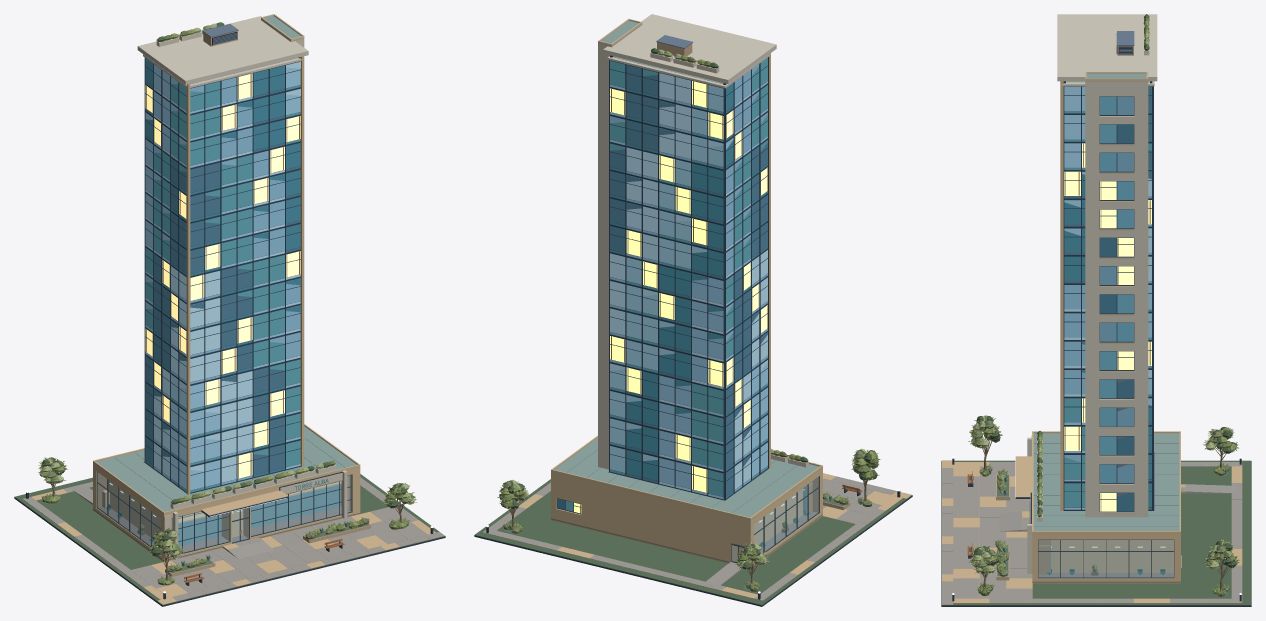
Rendered from torre_corporativa.fbx.
The picture shows the model from 3 angles, left to right: view 1: azimuth 30°, elevation 25°; view 2: azimuth 150°, elevation 25°; view 3: azimuth 270°, elevation 25°; orthographic projection. The views are drawn at different scales.
Parts seen in each view (by area): view 1: Acristalamiento opaco, Marcos y lamas, Muros, Marquesinas, Senderos y explanadas, Cristales transparentes, Remates minerales, Islas de plantacion, Equipamiento de fachada, Piedra y bordillos, Setos y herbaceas, Arbol 246 (+3 smaller); view 2: Acristalamiento opaco, Muros, Marcos y lamas, Marquesinas, Islas de plantacion, Senderos y explanadas, Remates minerales, Cristales transparentes, Equipamiento de fachada, Piedra y bordillos, Arbol 246, Arbol 245 (+2 smaller); view 3: Muros, Acristalamiento opaco, Marquesinas, Senderos y explanadas, Islas de plantacion, Marcos y lamas, Cristales transparentes, Remates minerales, Equipamiento de fachada, Piedra y bordillos, Setos y herbaceas, Arbol 246 (+3 smaller).
Part boxes in pixels (left/top/right/bottom): Acristalamiento opaco: left=145, top=58, right=300, bottom=492; Marcos y lamas: left=96, top=32, right=352, bottom=554; Muros: left=93, top=20, right=360, bottom=559; Marquesinas: left=93, top=14, right=360, bottom=517; Senderos y explanadas: left=23, top=477, right=444, bottom=604; Cristales transparentes: left=97, top=472, right=351, bottom=552; Remates minerales: left=93, top=29, right=360, bottom=561; Islas de plantacion: left=14, top=474, right=445, bottom=605; Equipamiento de fachada: left=106, top=22, right=341, bottom=541; Piedra y bordillos: left=14, top=497, right=445, bottom=606; Setos y herbaceas: left=41, top=491, right=409, bottom=585; Arbol 246: left=148, top=528, right=183, bottom=580; Acristalamiento opaco: left=557, top=57, right=767, bottom=513; Muros: left=551, top=25, right=822, bottom=564; Marcos y lamas: left=557, top=55, right=819, bottom=562; Marquesinas: left=551, top=14, right=822, bottom=520; Islas de plantacion: left=474, top=479, right=912, bottom=605; Senderos y explanadas: left=483, top=473, right=911, bottom=600; Remates minerales: left=551, top=52, right=822, bottom=566; Cristales transparentes: left=732, top=477, right=818, bottom=561; Equipamiento de fachada: left=651, top=35, right=811, bottom=547; Piedra y bordillos: left=474, top=495, right=912, bottom=606; Arbol 246: left=851, top=448, right=880, bottom=500; Arbol 245: left=497, top=480, right=528, bottom=527; Muros: left=1032, top=81, right=1180, bottom=581; Acristalamiento opaco: left=1064, top=86, right=1151, bottom=511; Marquesinas: left=1015, top=14, right=1180, bottom=534; Senderos y explanadas: left=942, top=460, right=1242, bottom=604; Islas de plantacion: left=941, top=460, right=1251, bottom=605; Marcos y lamas: left=1015, top=33, right=1174, bottom=578; Cristales transparentes: left=1038, top=540, right=1173, bottom=577; Remates minerales: left=1027, top=18, right=1181, bottom=583; Equipamiento de fachada: left=1037, top=14, right=1165, bottom=575; Piedra y bordillos: left=941, top=461, right=1251, bottom=606; Setos y herbaceas: left=977, top=463, right=1230, bottom=596; Arbol 246: left=968, top=415, right=1002, bottom=469.
Bounding box in the file's own units: 32 × 51.45 × 29.
